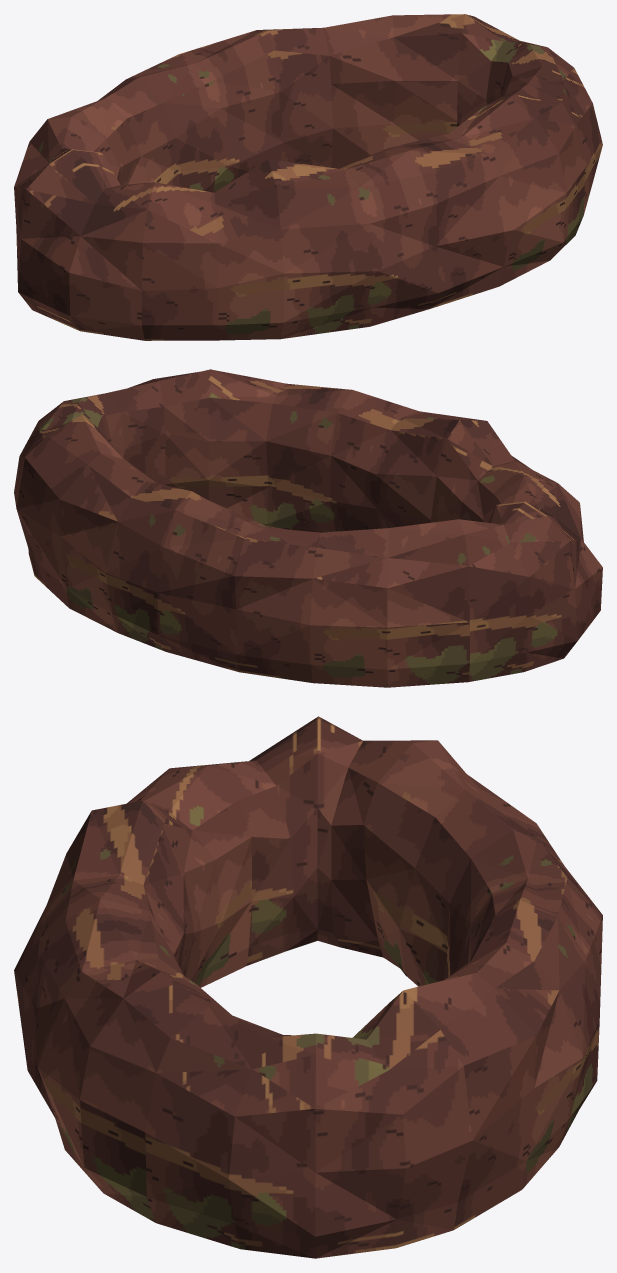
File: SM_AN10_VentCollar.fbx
3 renders of one model, top to bottom at view 1: azimuth 30°, elevation 25°; view 2: azimuth 150°, elevation 25°; view 3: azimuth 270°, elevation 25°, orthographic. The views are drawn at different scales.
Parts seen in each view (by area): view 1: AN10a_Earth; view 2: AN10a_Earth; view 3: AN10a_Earth.
Part boxes in pixels (x1,y1,x2,y2): AN10a_Earth: [14, 14, 602, 340]; AN10a_Earth: [14, 369, 602, 687]; AN10a_Earth: [14, 716, 602, 1258].
Size of the model in its own units: 4.04 by 1.1 by 2.67.
